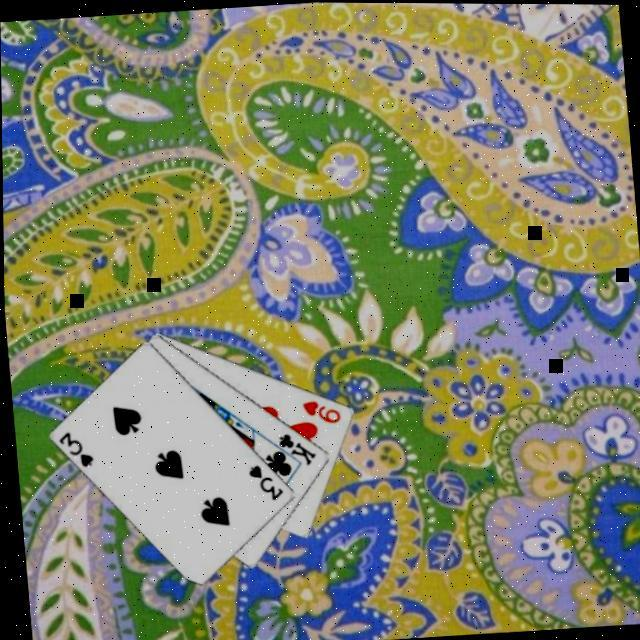3S: (242, 461, 284, 506), (52, 428, 94, 473)
9H: (297, 396, 341, 429)
KC: (263, 430, 316, 471)
